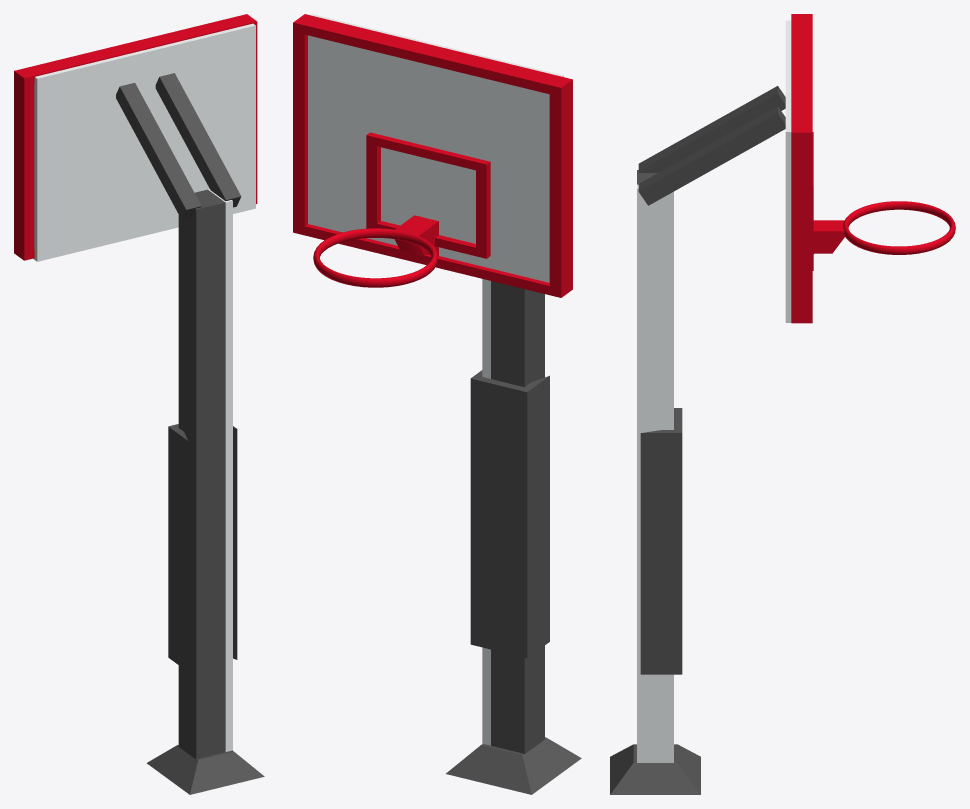
File: basketball_mat.fbx
The picture shows the model from 3 angles, left to right: view 1: azimuth 30°, elevation 25°; view 2: azimuth 150°, elevation 25°; view 3: azimuth 270°, elevation 25°; orthographic projection. The views are drawn at different scales.
Visible parts, largest first — view 1: Box059; view 2: Box059; view 3: Box059.
Boxes of the visible parts, x1,y1,x2,y2 form: Box059: (14, 14, 264, 794); Box059: (293, 14, 581, 794); Box059: (610, 14, 955, 794).
Size of the model in its own units: 4616 by 12732 by 5680.
